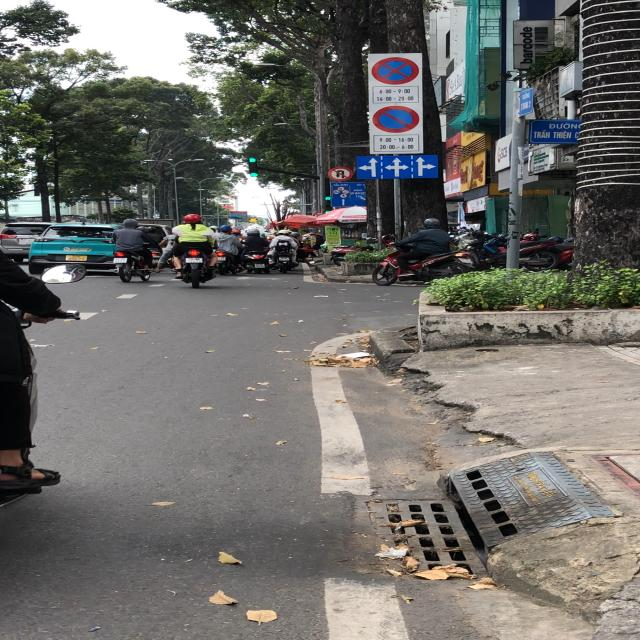Bien bao cam do xe: (372, 104, 425, 134)
Bien bao cam dung xe va do xe: (368, 55, 426, 85)
Bien bao cam quay dau xe: (327, 165, 355, 182)
